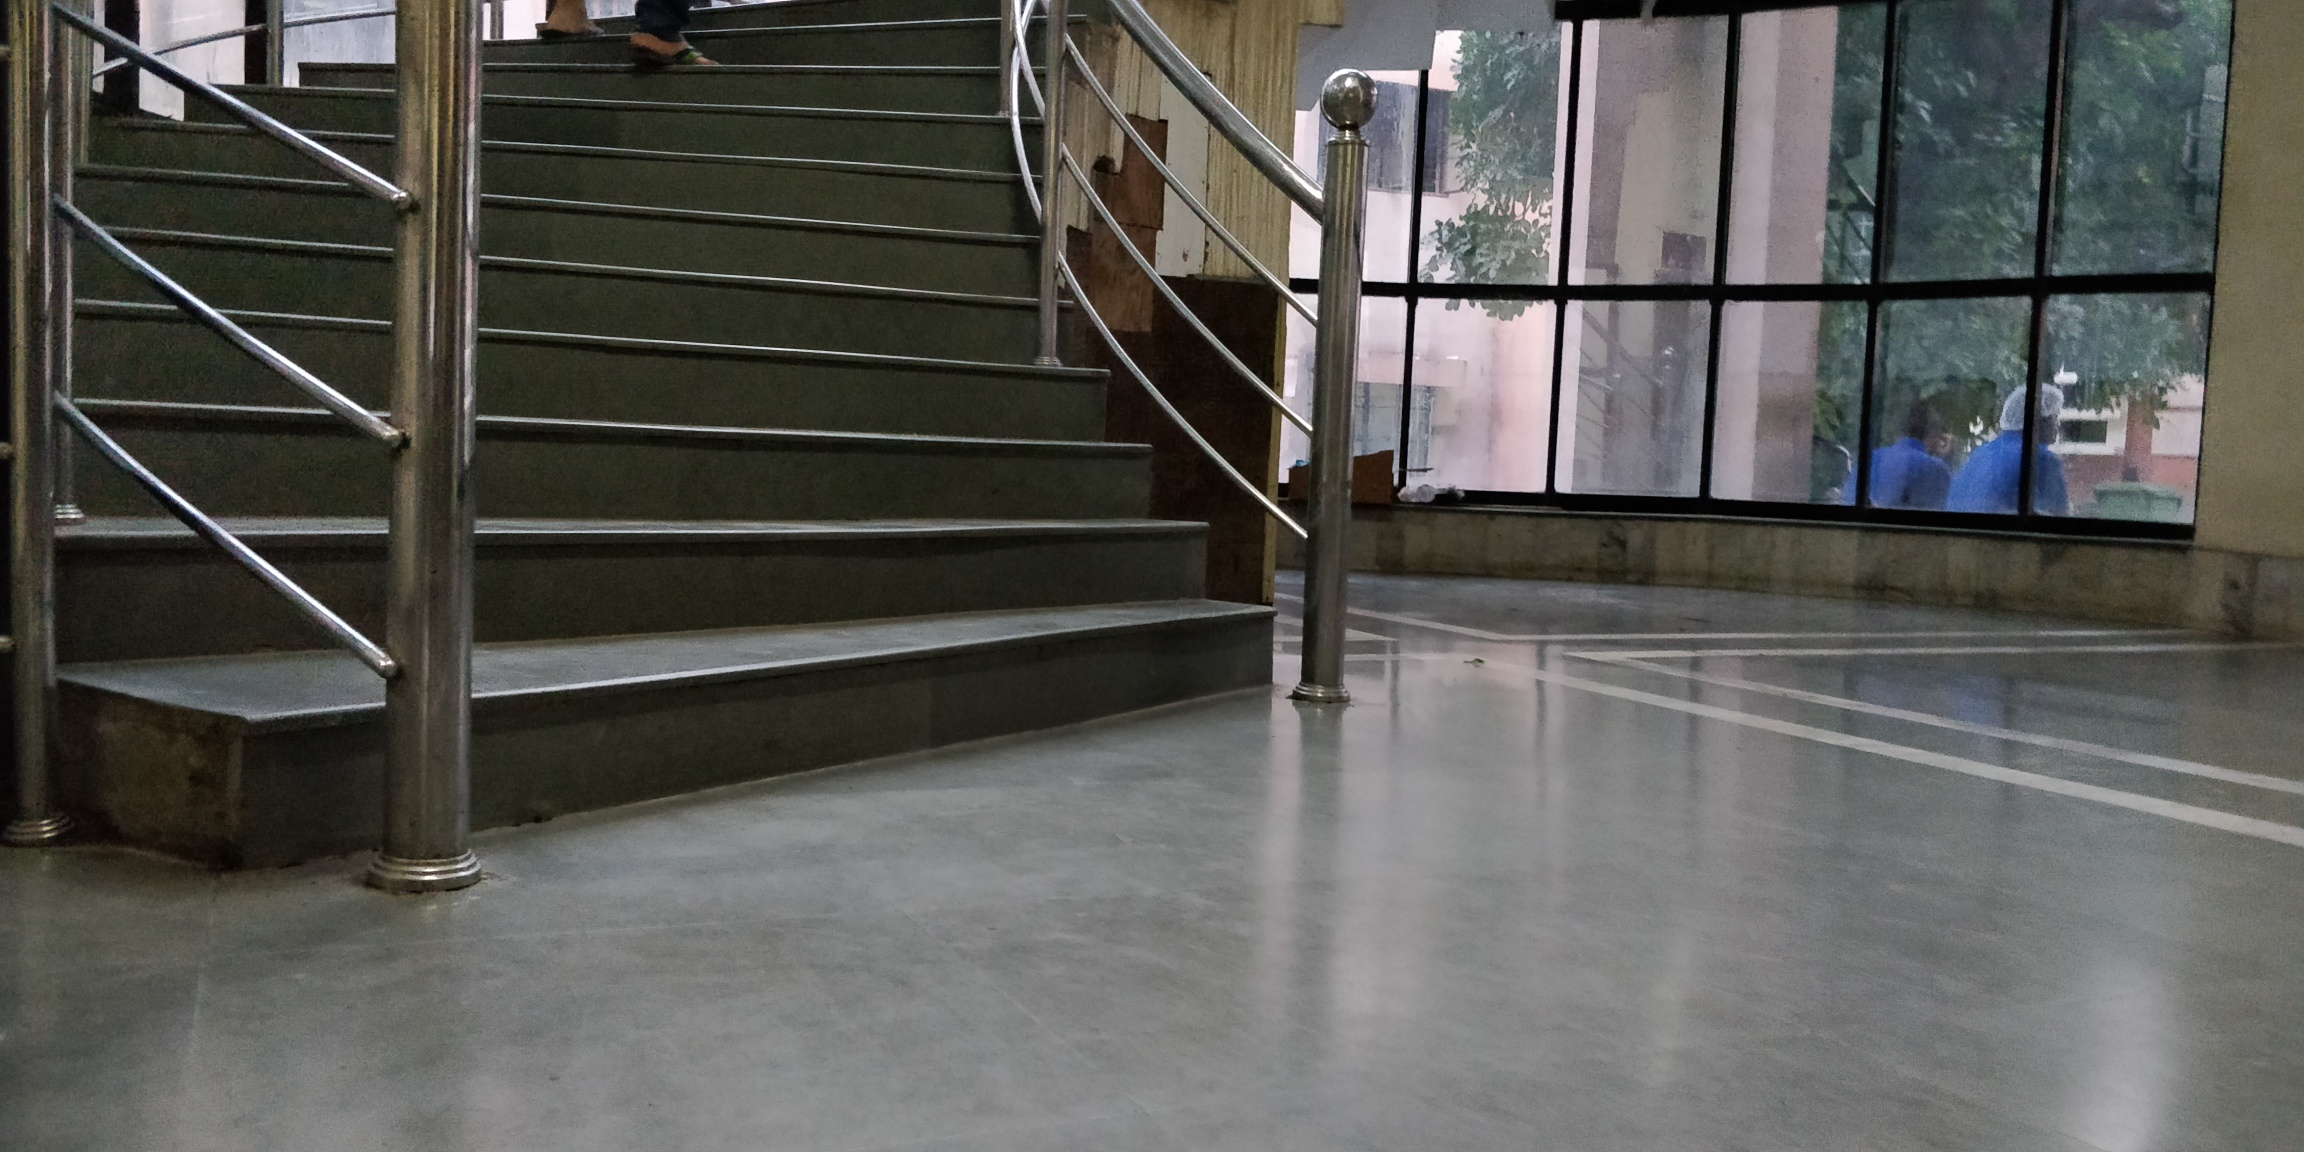stairs_up: (69, 103, 1264, 776)
